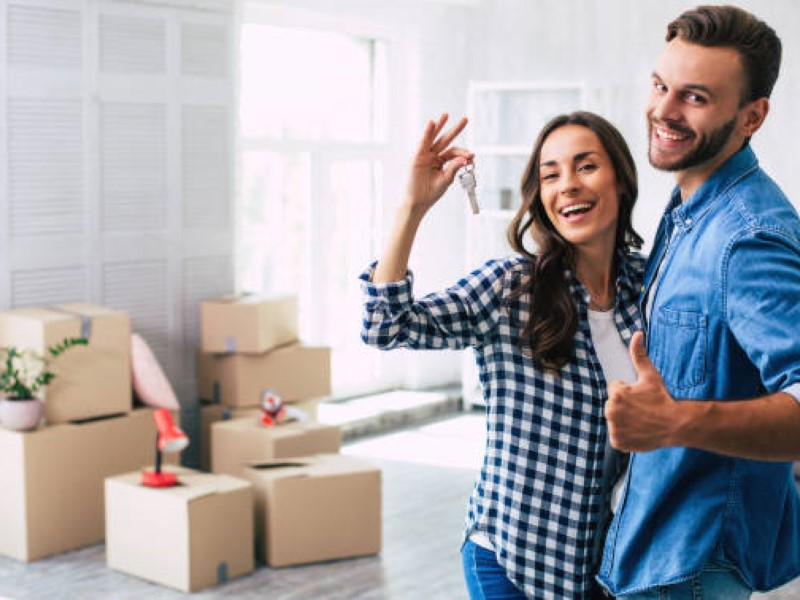key: (459, 156, 480, 219)
